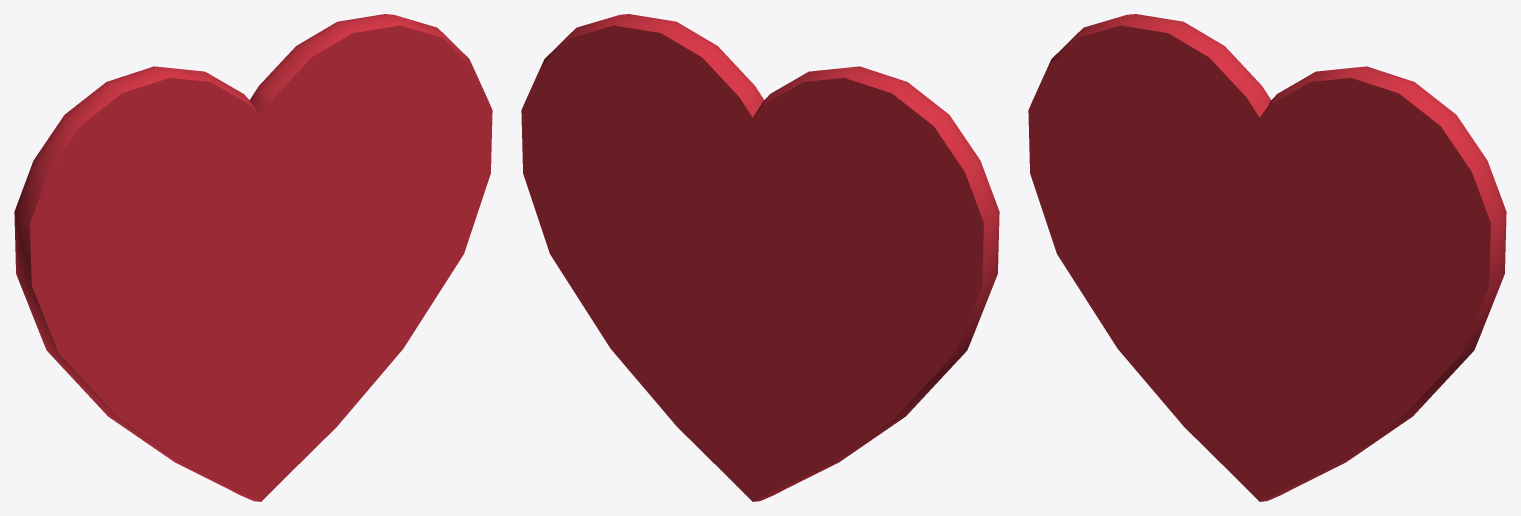
The model's file is heart.fbx.
The picture shows the model from 3 angles, left to right: view 1: azimuth 30°, elevation 25°; view 2: azimuth 150°, elevation 25°; view 3: azimuth 330°, elevation 25°; orthographic projection.
Parts seen in each view (by area): view 1: heart; view 2: heart; view 3: heart.
Boxes of the visible parts, x1=… form: heart: x1=14, y1=14, x2=492, y2=501; heart: x1=521, y1=14, x2=999, y2=501; heart: x1=1028, y1=14, x2=1506, y2=501.
Bounding box in the file's own units: 1.74 × 1.61 × 0.1.
